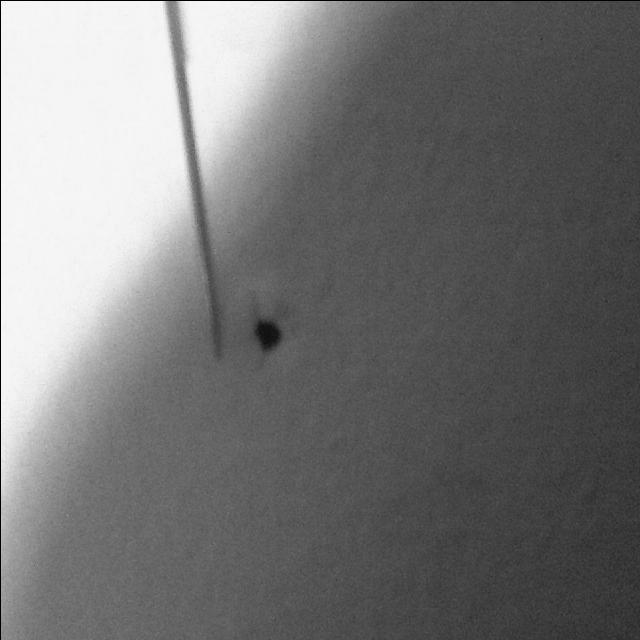pin holes: (241, 306, 301, 364)
